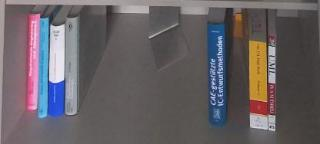book-spine: (207, 23, 226, 127), (249, 41, 268, 132), (48, 23, 65, 118), (26, 13, 41, 111), (65, 15, 79, 116), (38, 17, 49, 119), (269, 34, 276, 133)
